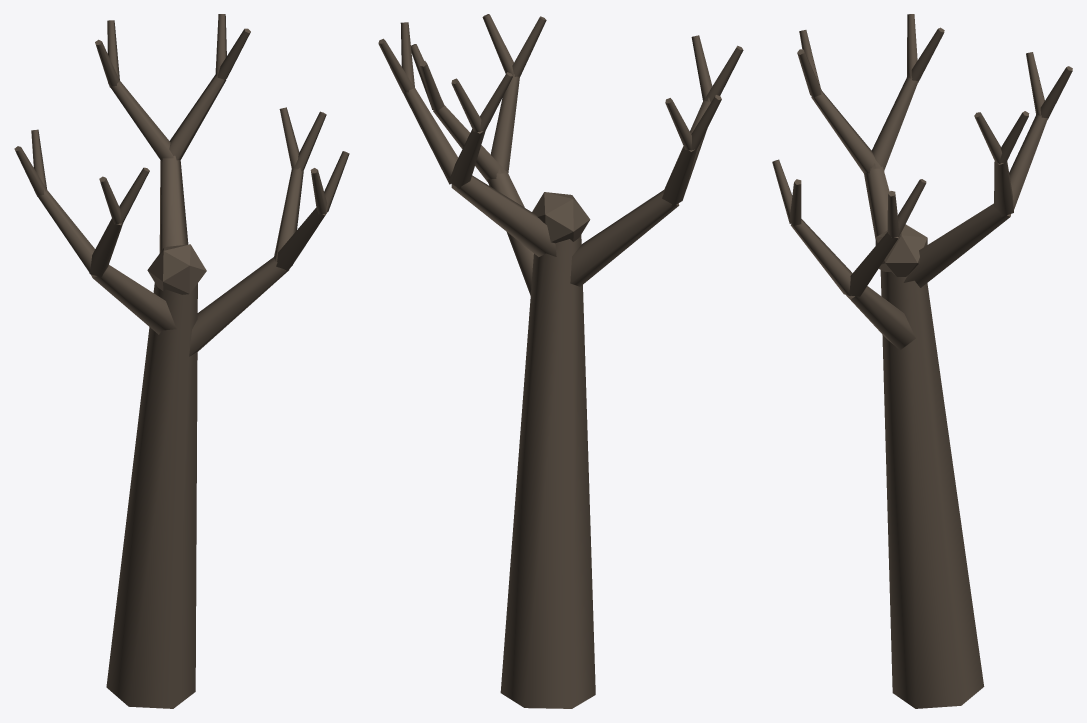
The model's file is tree_deadtree_1.glb.
The picture shows the model from 3 angles, left to right: view 1: azimuth 30°, elevation 25°; view 2: azimuth 150°, elevation 25°; view 3: azimuth 270°, elevation 25°; orthographic projection. The views are drawn at different scales.
Parts seen in each view (by area): view 1: trunk, crown; view 2: trunk, crown; view 3: trunk, crown.
Part boxes in pixels (box(x1,y1,x2,y2)): trunk: box(106, 244, 206, 708); crown: box(14, 14, 349, 356); trunk: box(500, 192, 595, 708); crown: box(378, 14, 743, 295); trunk: box(875, 224, 984, 708); crown: box(772, 14, 1072, 350).
Size of the model in its own units: 1.17 by 2.3 by 0.9825.
